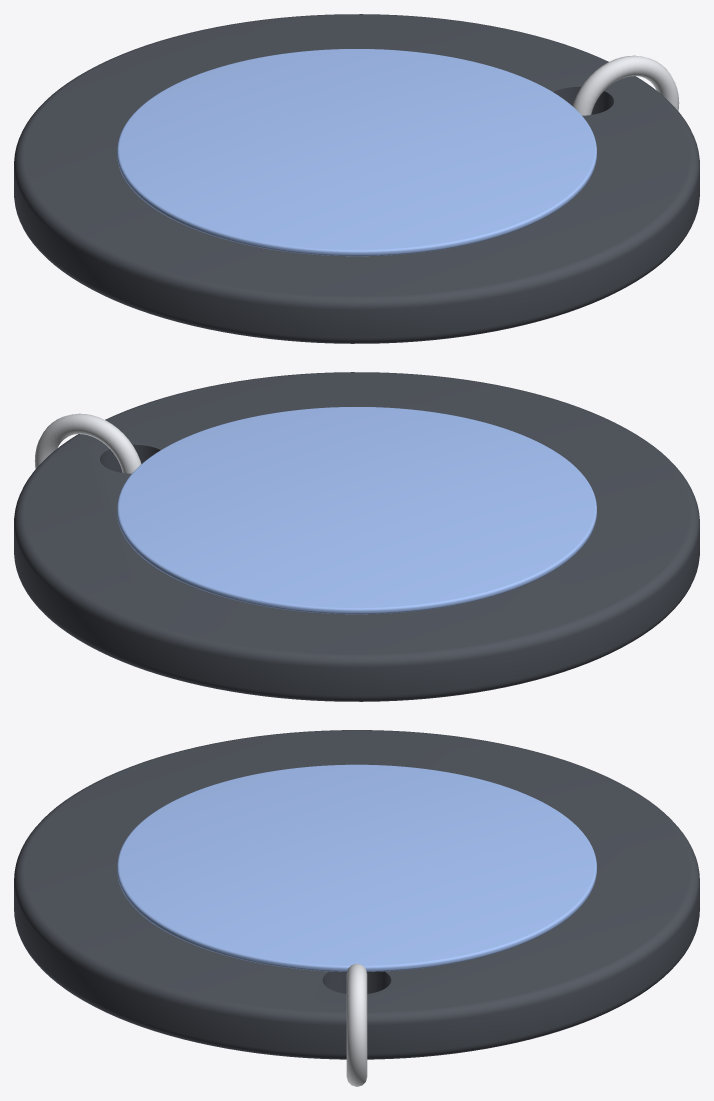
File: hero-keychain.glb
The picture shows the model from 3 angles, top to bottom: view 1: azimuth 30°, elevation 25°; view 2: azimuth 150°, elevation 25°; view 3: azimuth 270°, elevation 25°; orthographic projection.
Parts seen in each view (by area): view 1: Body, LogoPlate, Ring; view 2: Body, LogoPlate, Ring; view 3: Body, LogoPlate, Ring.
Boxes of the visible parts, box(x1,y1,x2,y2) form: Body: box(14, 14, 699, 343); LogoPlate: box(117, 49, 596, 256); Ring: box(572, 55, 679, 115); Body: box(14, 372, 699, 701); LogoPlate: box(117, 407, 596, 614); Ring: box(34, 413, 141, 473); Body: box(14, 730, 699, 1059); LogoPlate: box(117, 764, 596, 971); Ring: box(346, 963, 367, 1086).
Bounding box in the file's own units: 0.0416 × 0.0072 × 0.04.
